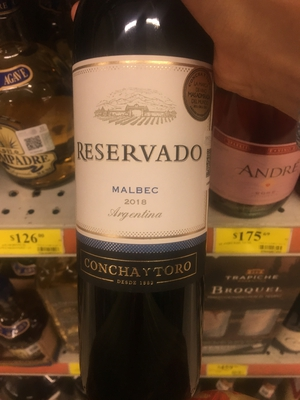reservado malbec: (67, 11, 218, 400)
